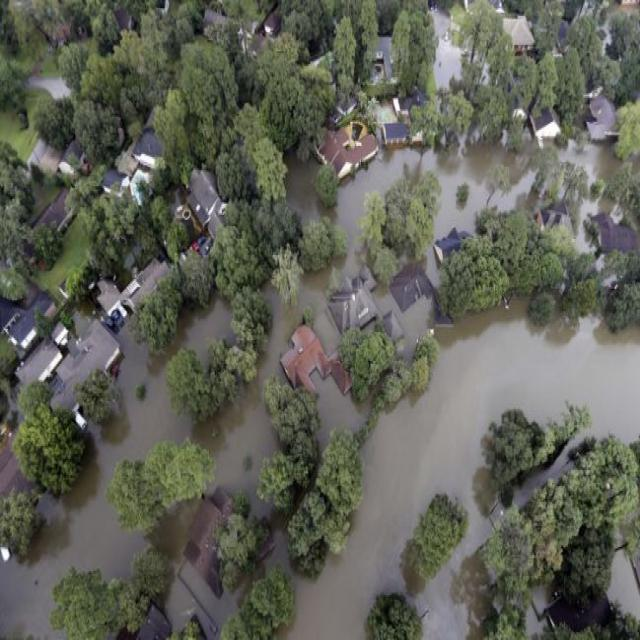flood: (0, 146, 531, 640), (283, 301, 640, 640), (562, 189, 631, 252), (313, 374, 370, 446), (373, 290, 435, 356), (561, 142, 623, 180), (609, 553, 640, 618)
house: (280, 324, 340, 398), (327, 256, 382, 336), (182, 492, 228, 586), (542, 586, 614, 638), (188, 164, 225, 237), (386, 258, 435, 312), (324, 132, 378, 178), (500, 8, 534, 63), (594, 214, 640, 253), (0, 306, 41, 347), (588, 96, 618, 143), (130, 134, 161, 168), (534, 108, 562, 144), (438, 230, 460, 262), (384, 122, 407, 146)
